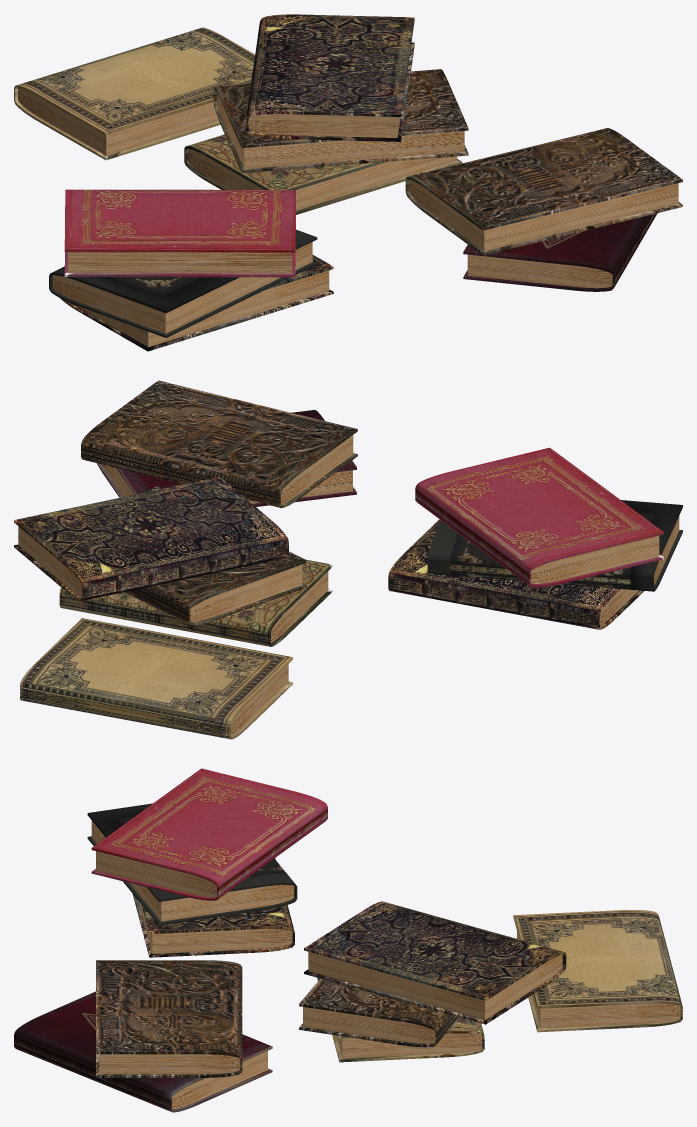
File: books.glb
3 renders of one model, top to bottom at view 1: azimuth 30°, elevation 25°; view 2: azimuth 150°, elevation 25°; view 3: azimuth 270°, elevation 25°, orthographic. The views are drawn at different scales.
Parts seen in each view (by area): view 1: book, book.001, book.006, book.007, book.005, book.004, book.002, book.008, book.003; view 2: book.006, book.007, book.001, book, book.003, book.008, book.005, book.004, book.002; view 3: book.006, book.001, book, book.007, book.002, book.005, book.004, book.003, book.008.
Part boxes in pixels (left/top/right/bottom): book: left=405, top=128, right=682, bottom=255; book.001: left=64, top=189, right=295, bottom=277; book.006: left=246, top=14, right=414, bottom=141; book.007: left=14, top=27, right=255, bottom=160; book.005: left=213, top=69, right=468, bottom=172; book.004: left=49, top=229, right=317, bottom=338; book.002: left=463, top=213, right=657, bottom=291; book.008: left=184, top=134, right=461, bottom=214; book.003: left=60, top=255, right=333, bottom=351; book.006: left=14, top=476, right=289, bottom=600; book.007: left=20, top=618, right=292, bottom=739; book.001: left=415, top=447, right=663, bottom=587; book: left=81, top=380, right=357, bottom=508; book.003: left=388, top=519, right=643, bottom=629; book.008: left=59, top=559, right=332, bottom=646; book.005: left=124, top=486, right=306, bottom=625; book.004: left=427, top=500, right=682, bottom=591; book.002: left=97, top=410, right=356, bottom=506; book.006: left=304, top=901, right=566, bottom=1024; book.001: left=91, top=768, right=327, bottom=900; book: left=96, top=960, right=242, bottom=1077; book.007: left=513, top=910, right=682, bottom=1032; book.002: left=14, top=991, right=272, bottom=1112; book.005: left=299, top=978, right=459, bottom=1047; book.004: left=87, top=803, right=297, bottom=925; book.003: left=132, top=858, right=294, bottom=957; book.008: left=317, top=978, right=484, bottom=1062.
Size of the model in its own units: 189 by 25.32 by 196.
Materials: 10 (10 with a texture image).
